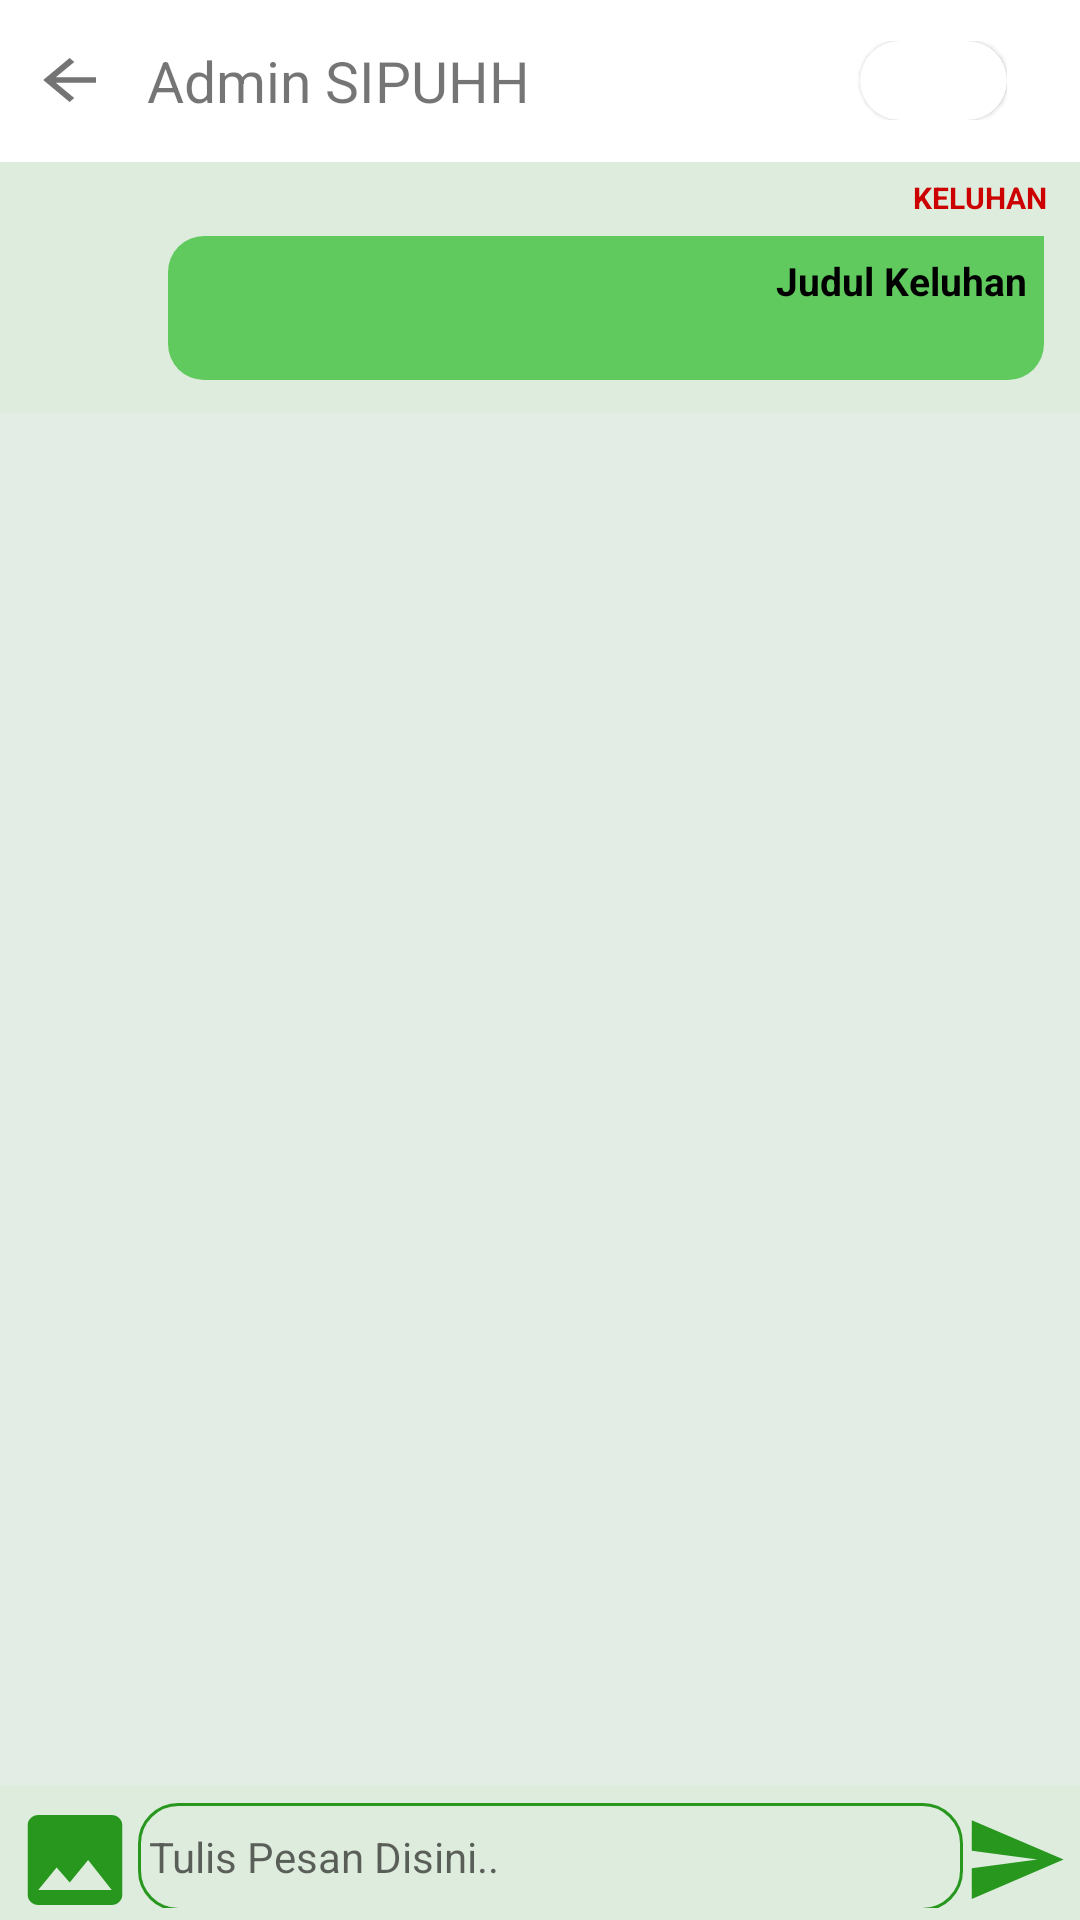

Screen size 1080*1920. Icon name, then its box in pixels as (x1, y1, x2, y2):
arrow back: (43, 58, 96, 102)
